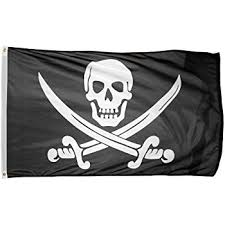Jolly Roger Flag: (4, 43, 224, 183)
